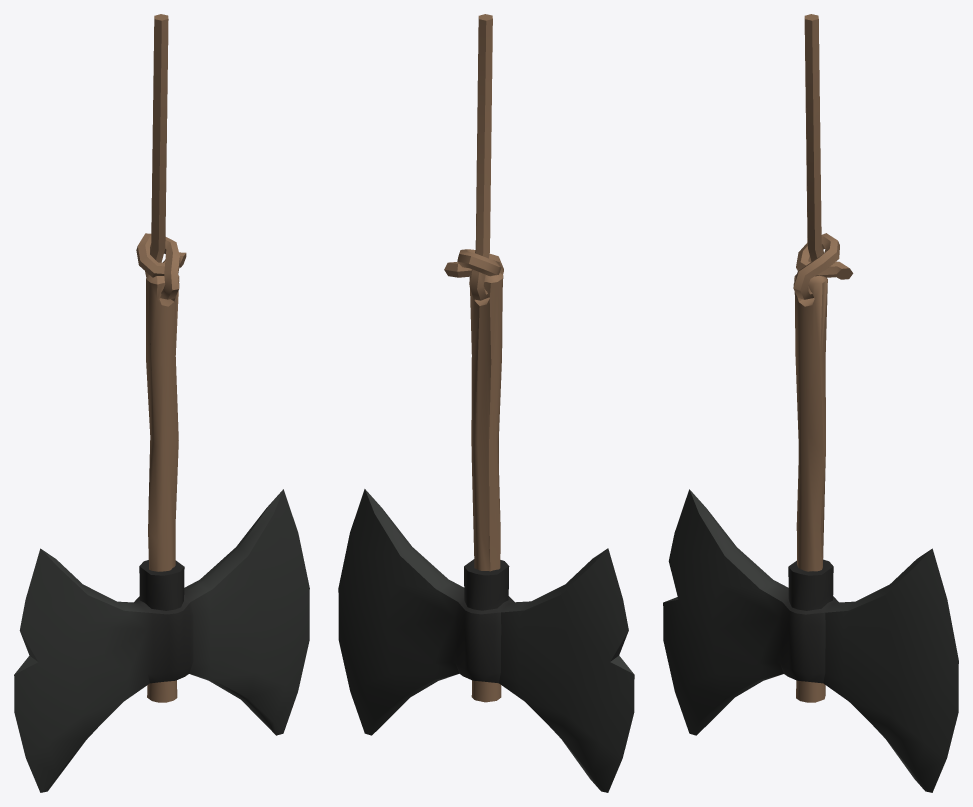
Rendered from axe.fbx.
The picture shows the model from 3 angles, left to right: view 1: azimuth 30°, elevation 25°; view 2: azimuth 150°, elevation 25°; view 3: azimuth 330°, elevation 25°; orthographic projection.
Parts seen in each view (by area): view 1: axe_LOD0; view 2: axe_LOD0; view 3: axe_LOD0.
Part boxes in pixels (box(x1,y1,x2,y2)): axe_LOD0: box(14, 14, 309, 792); axe_LOD0: box(338, 14, 634, 792); axe_LOD0: box(663, 14, 958, 792).
Size of what is drawn, in the model's own units: 5.44 by 13.11 by 1.08.
